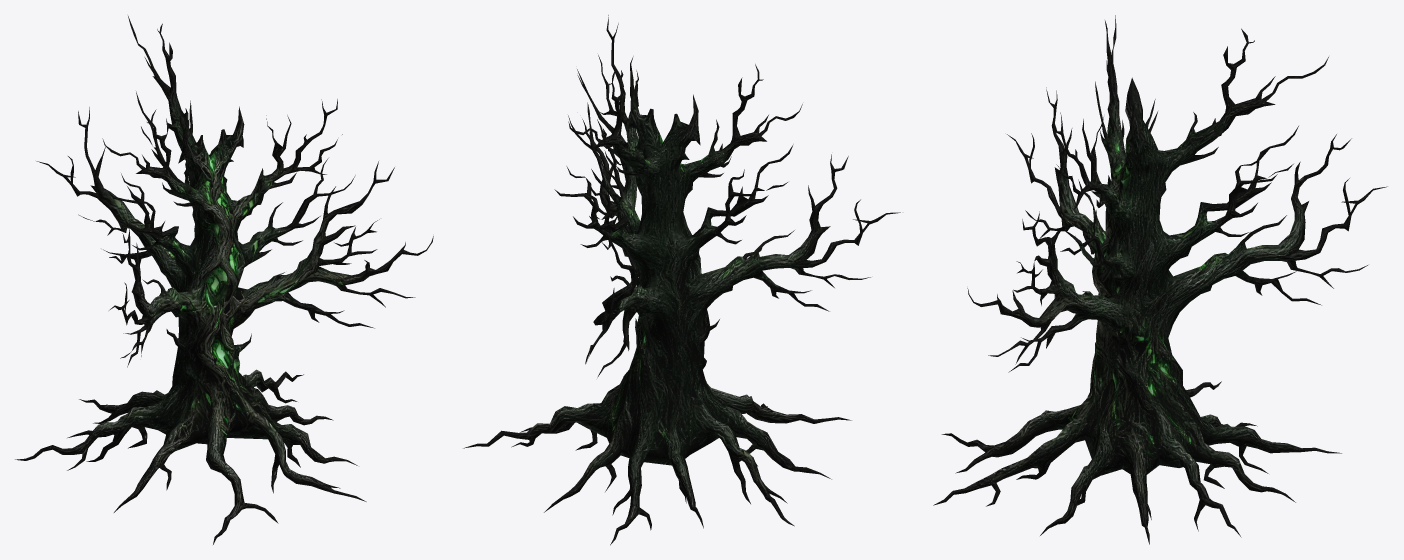
File: selected.glb
3 views of the same model, side by side, from view 1: azimuth 30°, elevation 25°; view 2: azimuth 150°, elevation 25°; view 3: azimuth 270°, elevation 25° (orthographic). The views are drawn at different scales.
Visible parts, largest first — view 1: tripo_node_b1961713-e635-4584-8e4f-e147ddff7306; view 2: tripo_node_b1961713-e635-4584-8e4f-e147ddff7306; view 3: tripo_node_b1961713-e635-4584-8e4f-e147ddff7306.
Part boxes in pixels (bbox=[...]): tripo_node_b1961713-e635-4584-8e4f-e147ddff7306: bbox=[15, 16, 433, 544]; tripo_node_b1961713-e635-4584-8e4f-e147ddff7306: bbox=[463, 15, 900, 545]; tripo_node_b1961713-e635-4584-8e4f-e147ddff7306: bbox=[933, 15, 1387, 544].
Bounding box in the file's own units: 0.7949 × 0.998 × 0.9121.
Materials: 1 (1 with a texture image).
